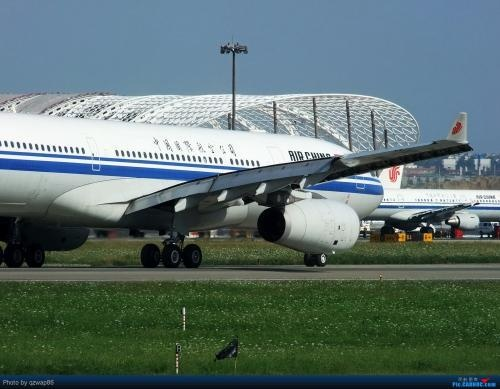airplane: (1, 107, 468, 260)
